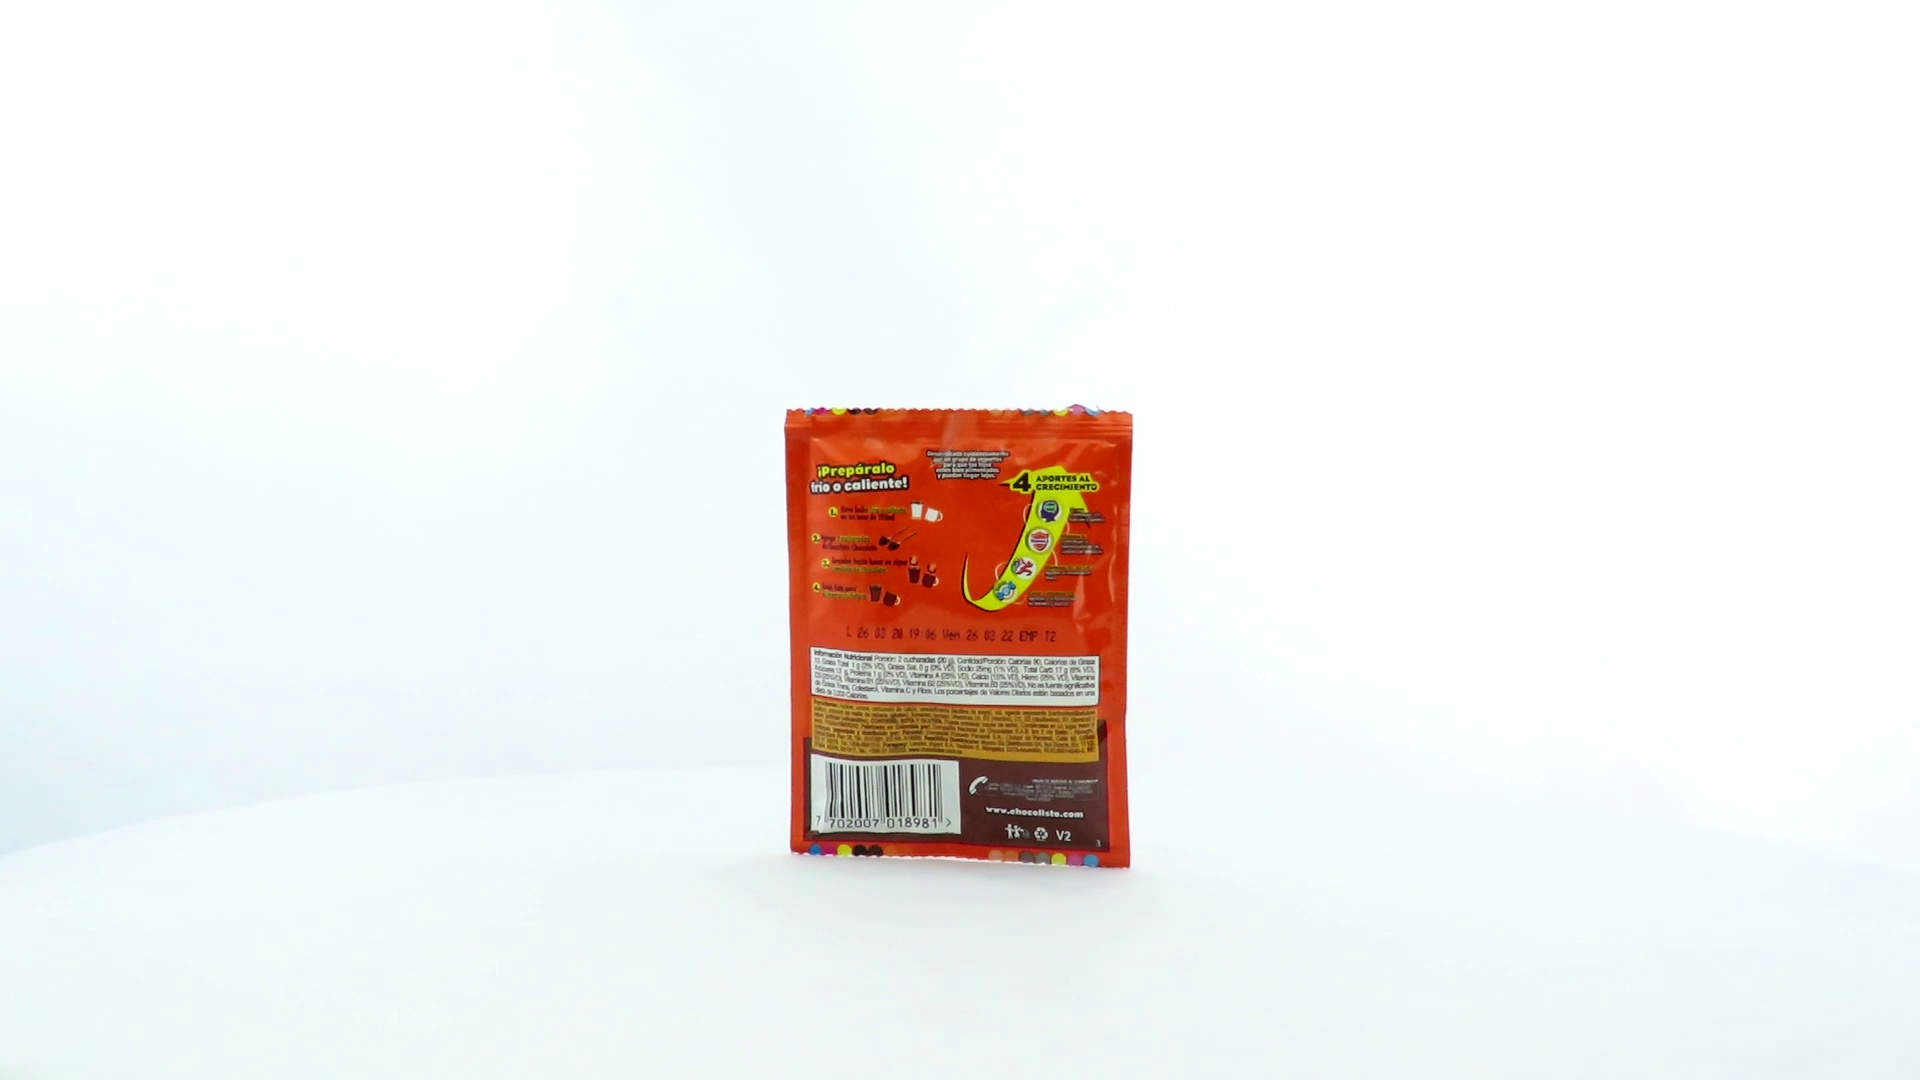COL0170103SOB02000: (779, 400, 1139, 876)
